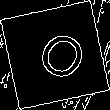O_SW: (23, 22, 87, 88)
